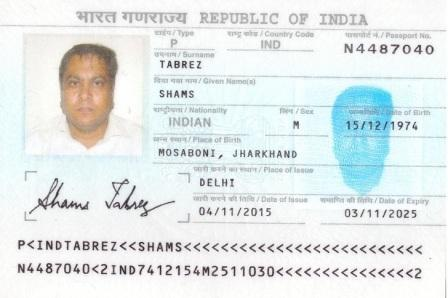DOB: (340, 119, 423, 134)
Surname: (156, 57, 207, 69)
country_code: (257, 37, 284, 52)
date_of_expiry: (339, 206, 421, 219)
date_of_issue: (196, 205, 275, 218)
details: (8, 231, 431, 290)
name: (157, 85, 199, 98)
nationality: (164, 114, 216, 128)
passport_no: (340, 40, 435, 57)
photo: (23, 36, 142, 150)
place_of_birth: (157, 142, 301, 163)
place_of_issue: (197, 175, 237, 188)
sex: (286, 118, 304, 130)
sign: (31, 179, 168, 218)
type: (165, 37, 181, 50)
